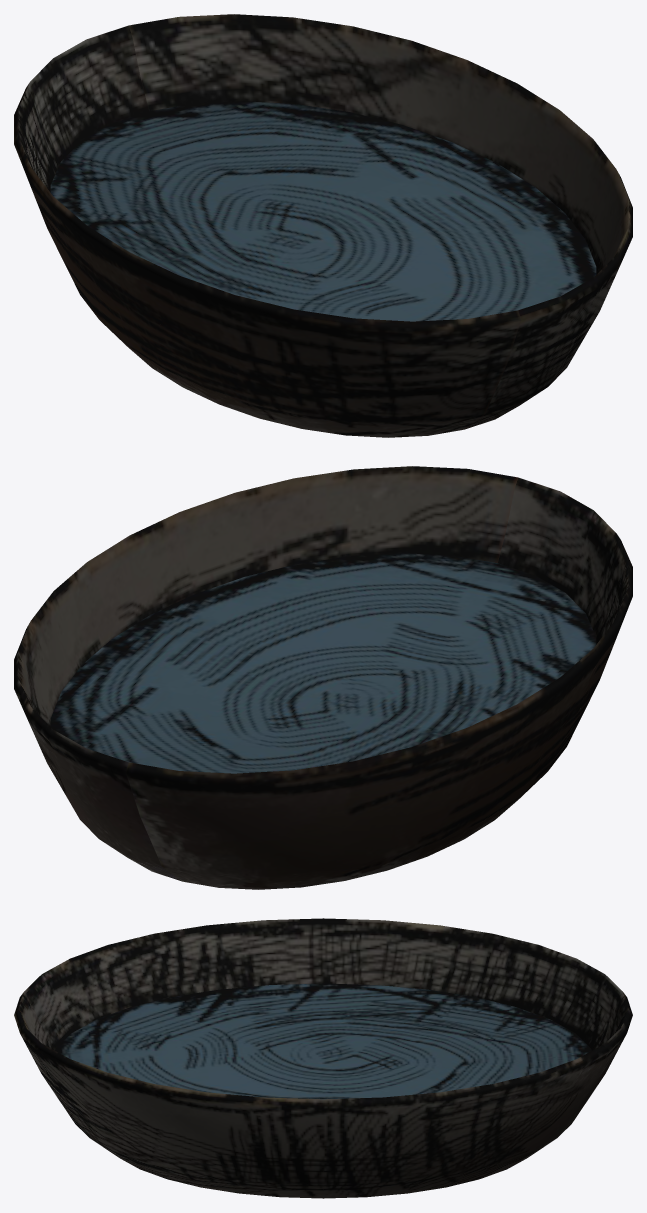
Rendered from trough.fbx.
3 renders of one model, top to bottom at view 1: azimuth 30°, elevation 25°; view 2: azimuth 150°, elevation 25°; view 3: azimuth 270°, elevation 25°, orthographic. The views are drawn at different scales.
Parts seen in each view (by area): view 1: Strove.014; view 2: Strove.014; view 3: Strove.014.
Part boxes in pixels (<box>): Strove.014: <box>14,14,632,437</box>; Strove.014: <box>14,466,632,889</box>; Strove.014: <box>14,918,632,1198</box>.
Size of the model in its own units: 90.05 by 28.41 by 128.
1 material, 1 textured.
